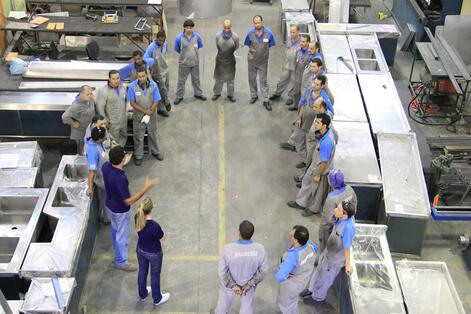person: (99, 144, 164, 273), (212, 219, 270, 314), (301, 201, 355, 302), (288, 114, 336, 217), (132, 196, 174, 307), (315, 170, 363, 260), (274, 225, 318, 314), (112, 50, 168, 117), (126, 70, 165, 164), (243, 14, 277, 112), (298, 75, 332, 164), (172, 19, 207, 105), (59, 84, 98, 156), (85, 127, 113, 226), (142, 29, 173, 118), (94, 70, 127, 151), (211, 20, 242, 102), (297, 100, 332, 172), (270, 24, 298, 107), (307, 99, 330, 166), (295, 35, 311, 113), (304, 40, 322, 59), (307, 58, 327, 73)
